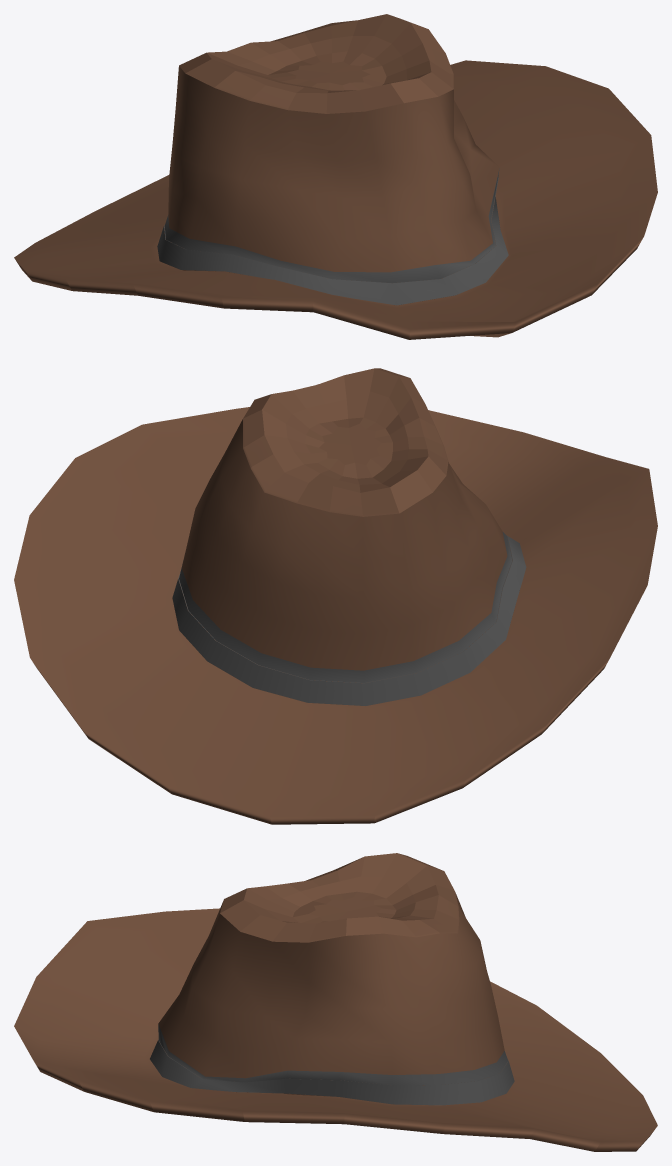
File: cowboyHat.fbx
3 views of the same model, one above another, from view 1: azimuth 30°, elevation 25°; view 2: azimuth 150°, elevation 25°; view 3: azimuth 270°, elevation 25° (orthographic). The views are drawn at different scales.
Visible parts, largest first — view 1: hatgroup1; view 2: hatgroup1; view 3: hatgroup1.
Part boxes in pixels (x1=…): hatgroup1: x1=14, y1=14, x2=657, y2=339; hatgroup1: x1=14, y1=368, x2=657, y2=824; hatgroup1: x1=14, y1=853, x2=657, y2=1151.
Size of the model in its own units: 0.4678 by 0.2305 by 0.5195.
